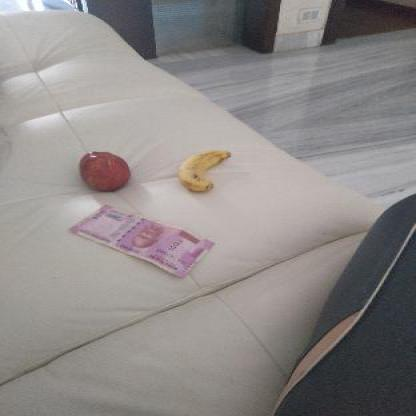New2000Front: (65, 205, 215, 280)
